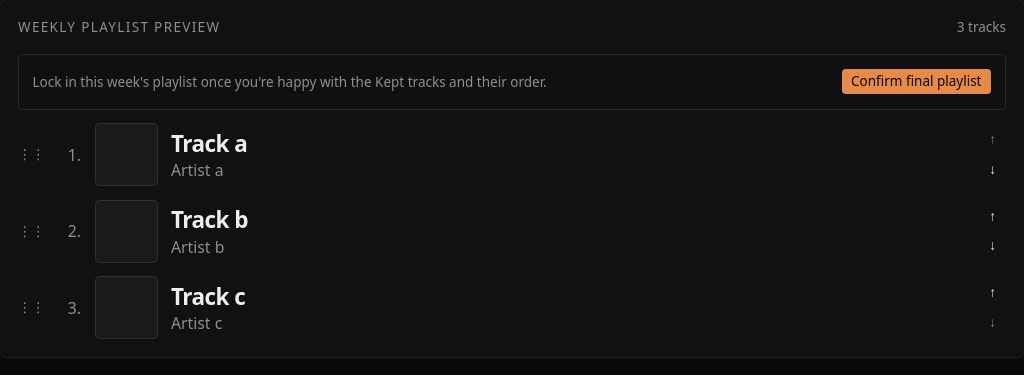
Test: WeeklyPlaylistPreview › confirming captures the current manual order as the confirmed playlist
Click the button "Confirm final playlist" at point(916, 82), box [841,68,992,96]
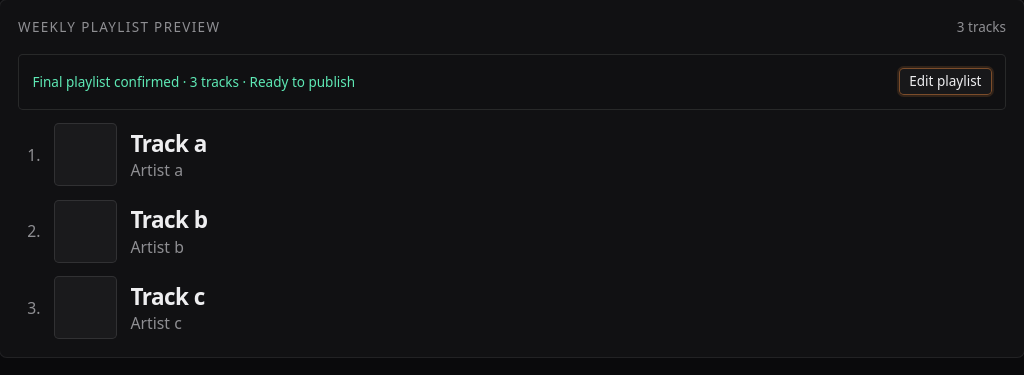
expect the text "3 tracks" is shown: met, box [957,18,1006,36]
expect the text "Final playlist confirmed" is shown: met, box [32,73,355,91]
